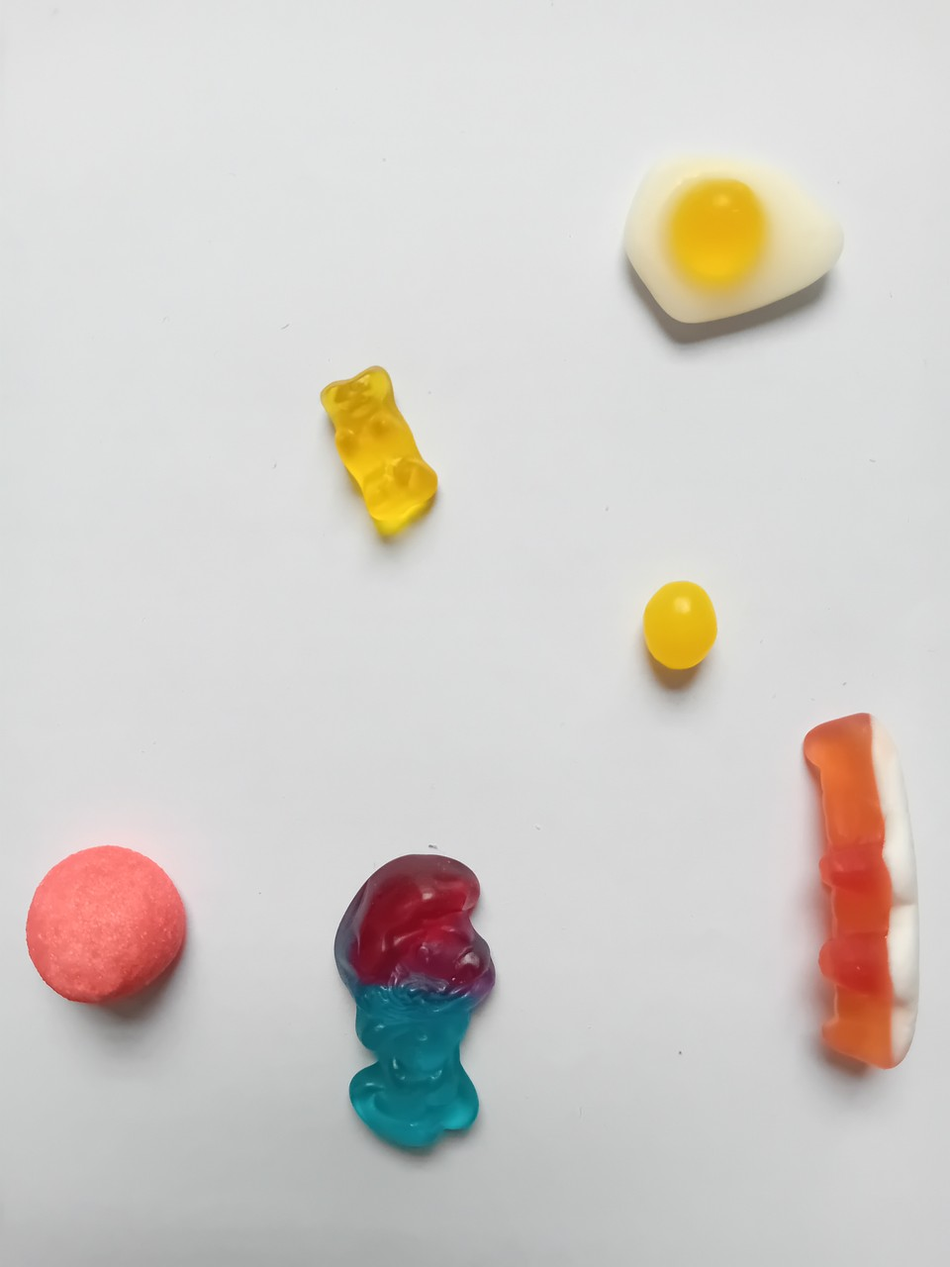crocodile_orange: (790, 707, 928, 1076)
dragibus_jaune: (633, 571, 723, 671)
oeuf_oeuf: (612, 146, 853, 329)
ourson_jaune: (308, 364, 443, 531)
schtroumpf_bleu-rouge: (317, 848, 500, 1157)
tagada_fraise: (18, 840, 191, 1013)
